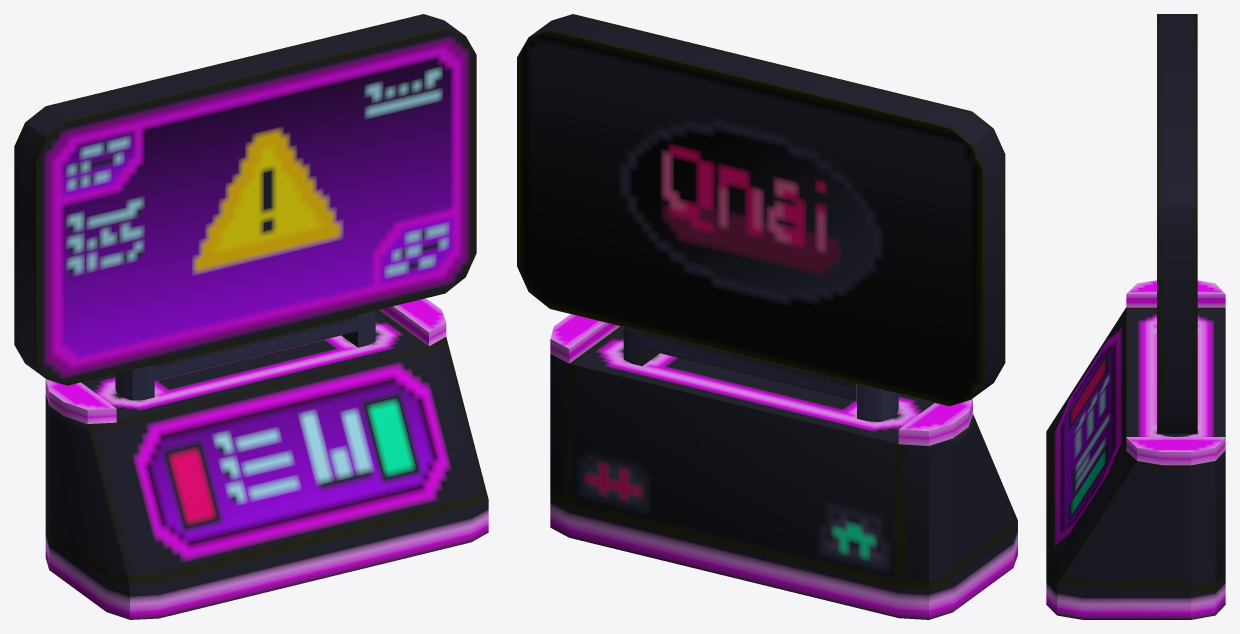
File: terminal.glb
3 renders of one model, left to right at view 1: azimuth 30°, elevation 25°; view 2: azimuth 150°, elevation 25°; view 3: azimuth 270°, elevation 25°, orthographic. The views are drawn at different scales.
Visible parts, largest first — view 1: terminal; view 2: terminal; view 3: terminal.
Part boxes in pixels (x1,y1,x2,y2): terminal: (14,14,488,619); terminal: (517,14,1017,619); terminal: (1046,14,1225,619).
Size of the model in its own units: 2 by 2 by 0.75.
1 material, 1 textured.
